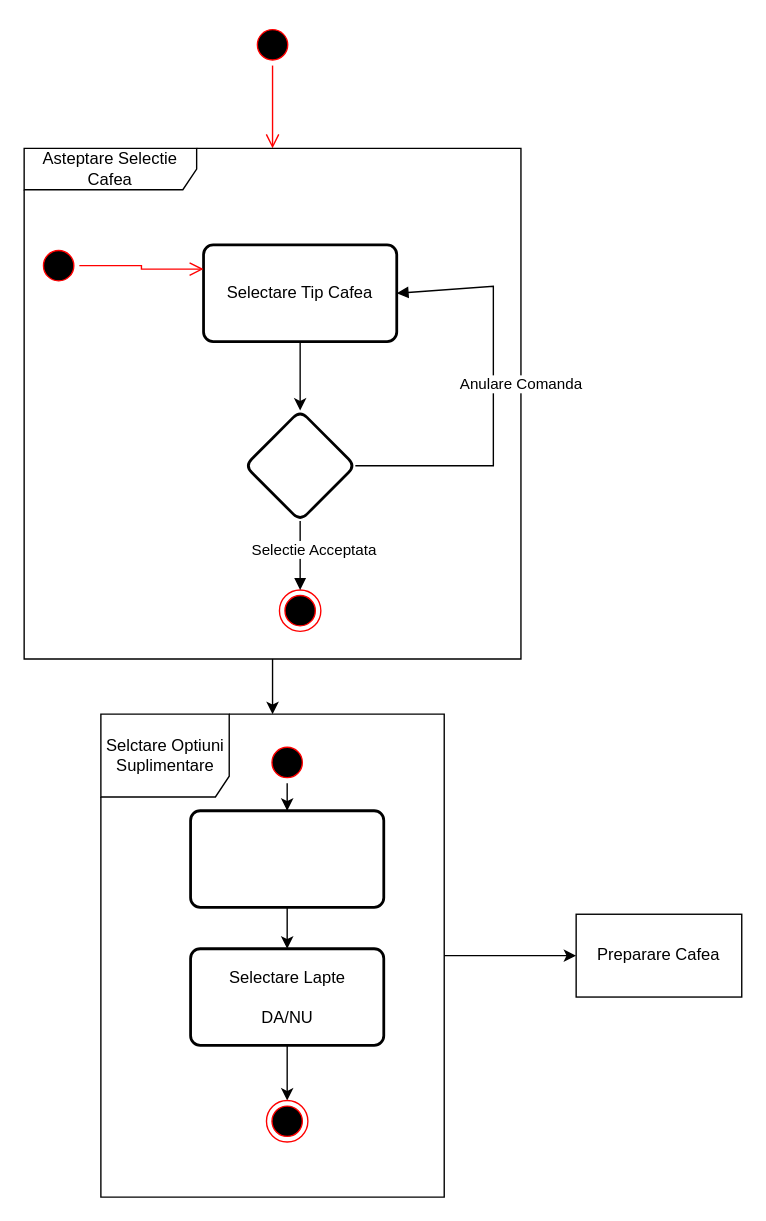
This 766x1221 diagram has some shape labels left out. The shapes that lost their labels are listed below. From the top down, each one's centre as x and y in pixels, then its label:
At pixel 299 465: "Cafea Selectata".
At pixel 286 858: "Selectare cantitate zahar".
